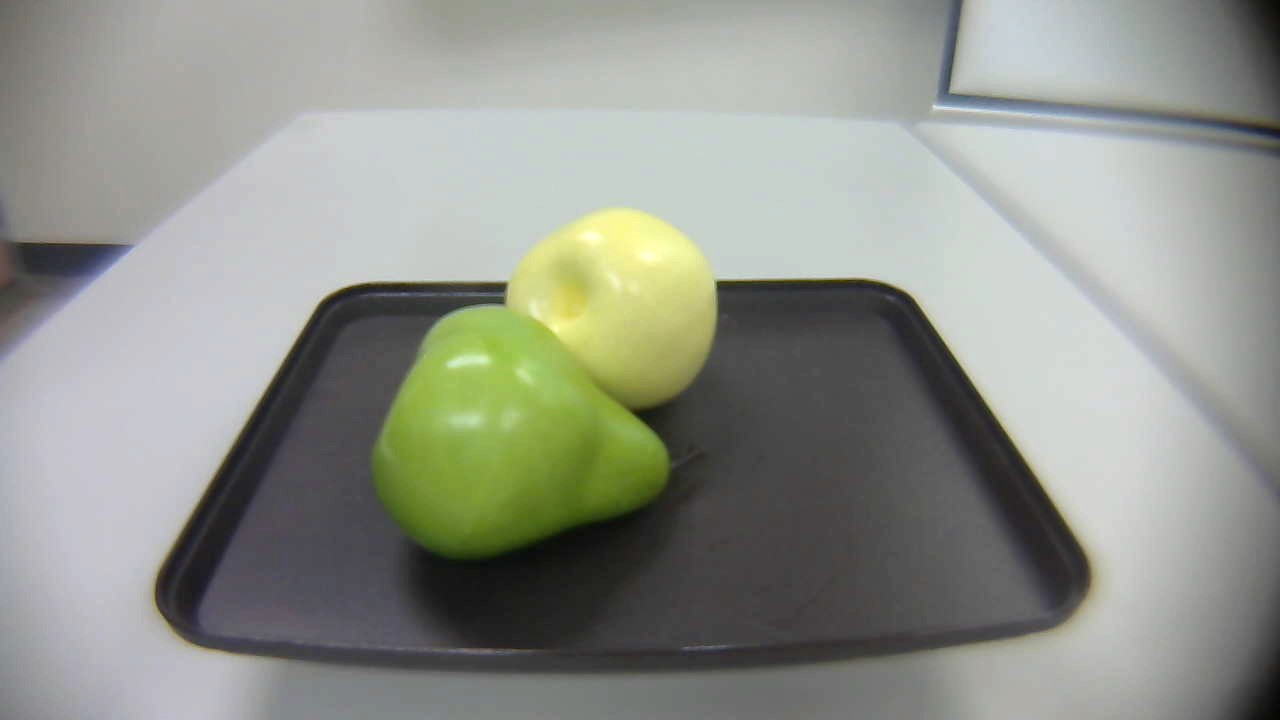green pear: (357, 295, 705, 577)
western pear: (509, 205, 717, 413)
